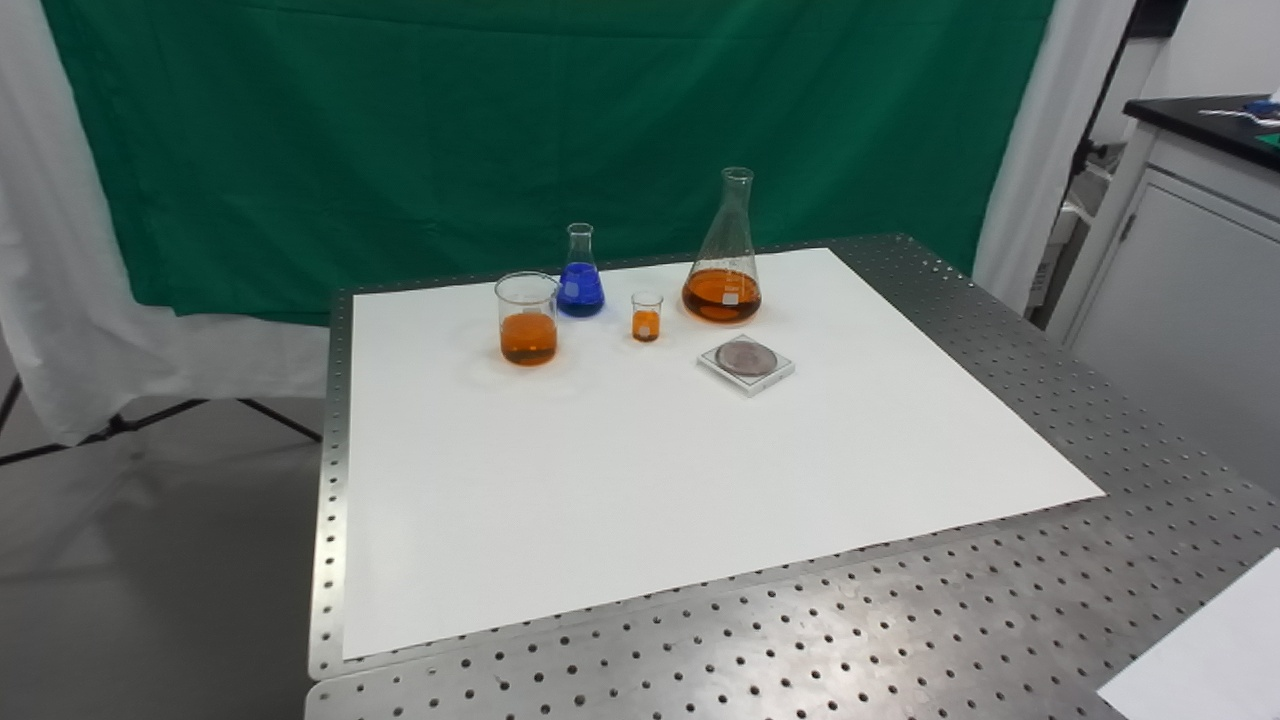glass: (680, 162, 765, 326), (491, 266, 564, 369), (551, 219, 608, 322), (629, 287, 666, 346)
plate: (696, 332, 798, 399)
